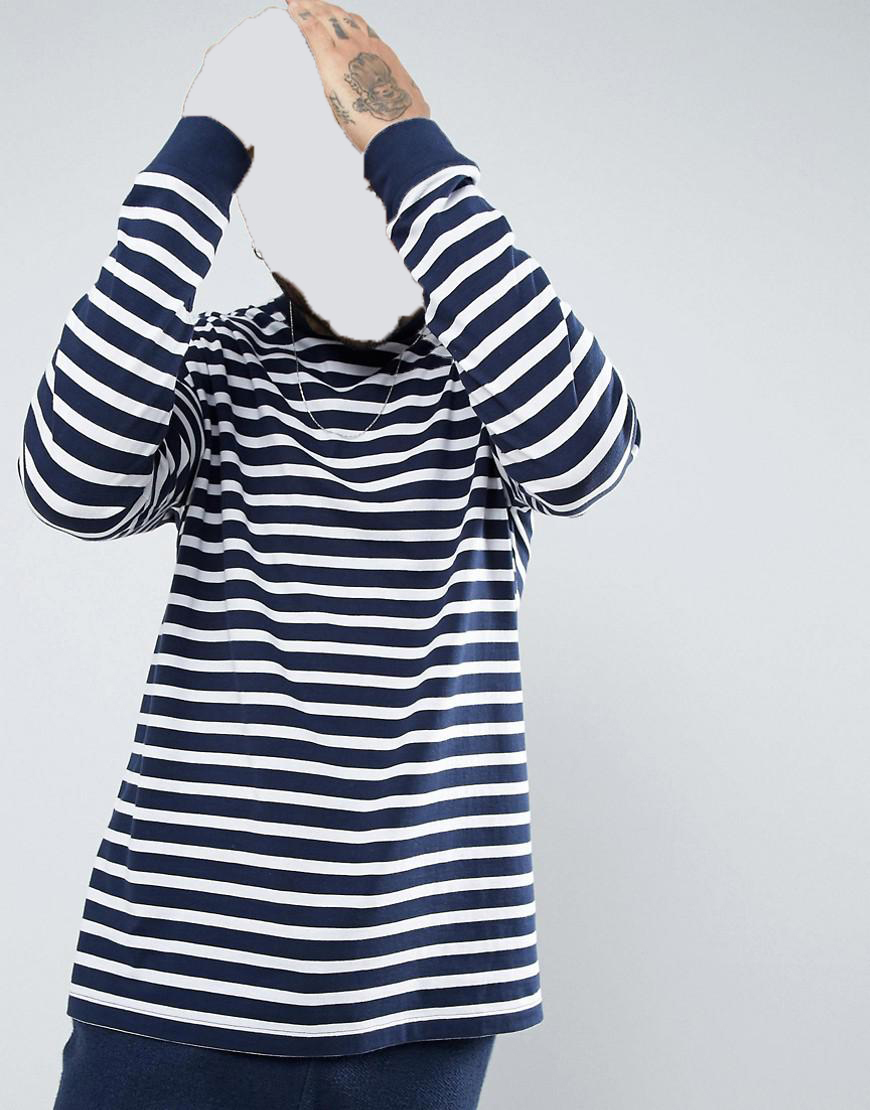teeshirt: (5, 120, 642, 1064)
